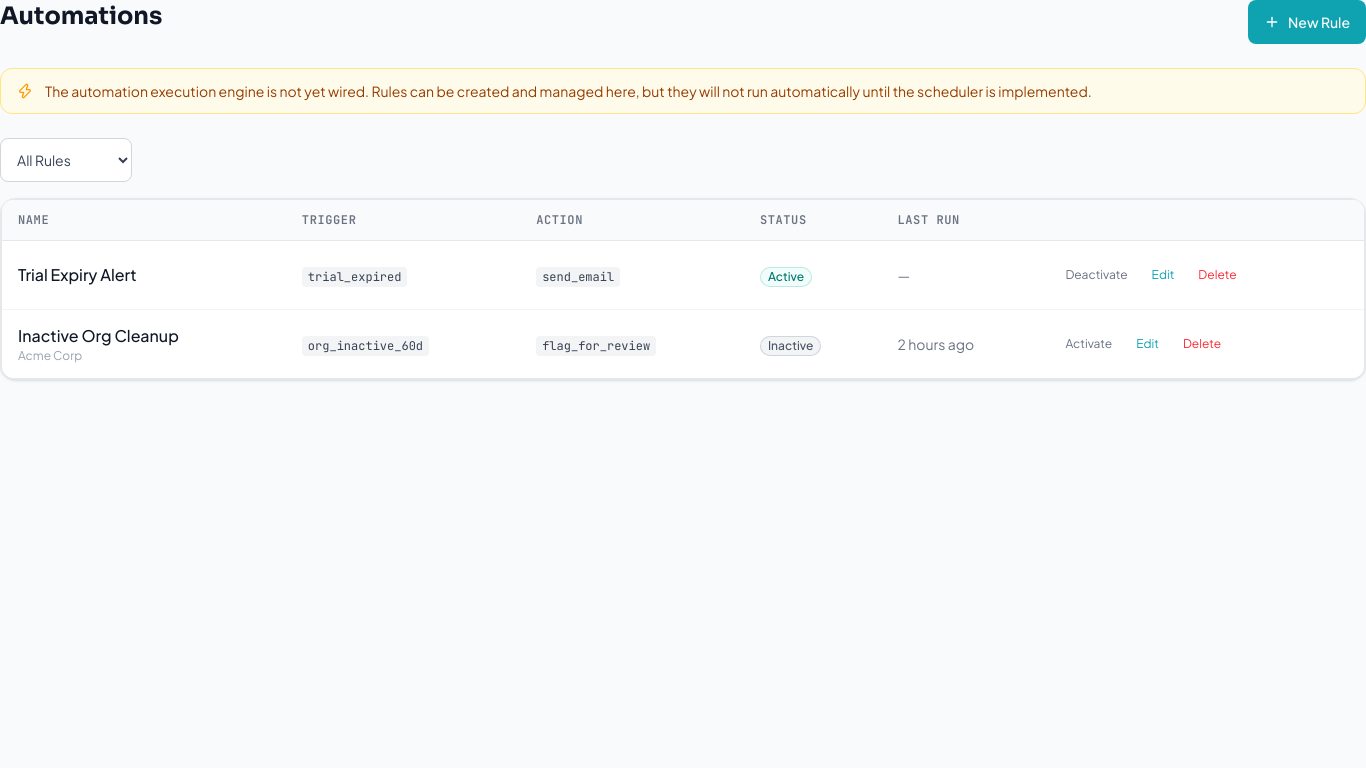
Automations page › shows confirm modal when Delete is clicked
Expected: the text "Trial Expiry Alert" is shown, [18,264,136,285]
Step 1. Click the button with aria-label "Delete Trial Expiry Alert" → click(1218, 275), box [1190,253,1245,297]
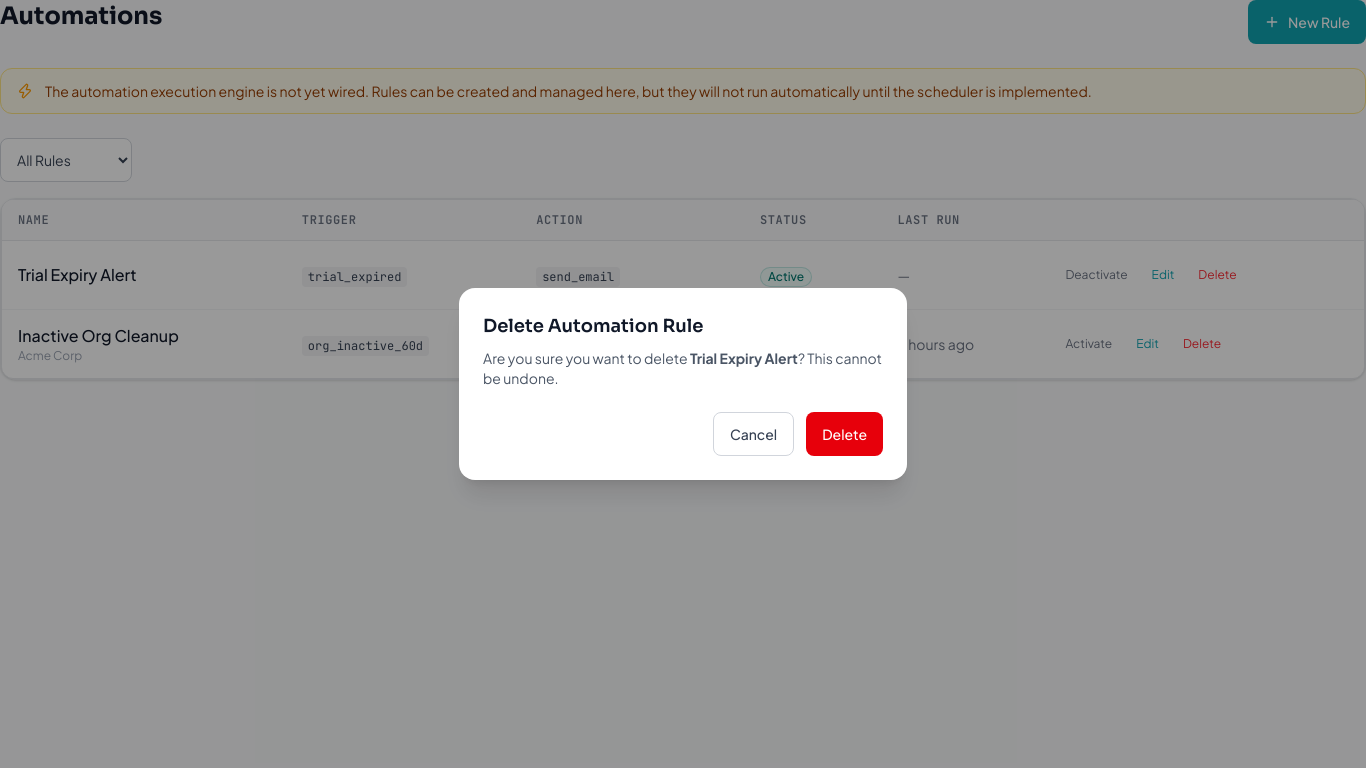
Expected: the heading "Delete Automation Rule" is shown, [483,315,704,337]
